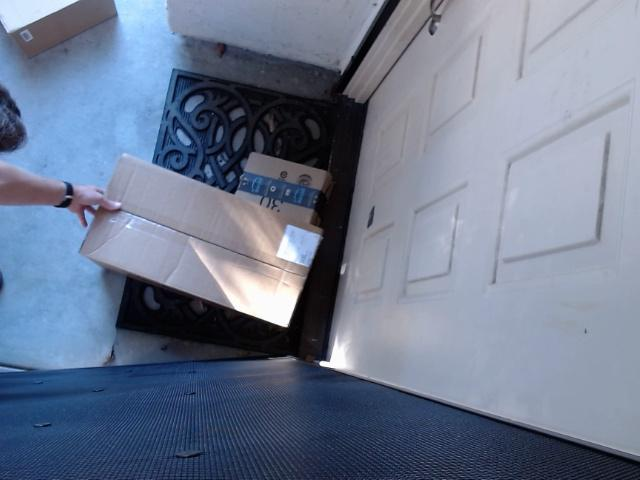box: (70, 156, 315, 335), (226, 119, 349, 248), (0, 0, 160, 54)
